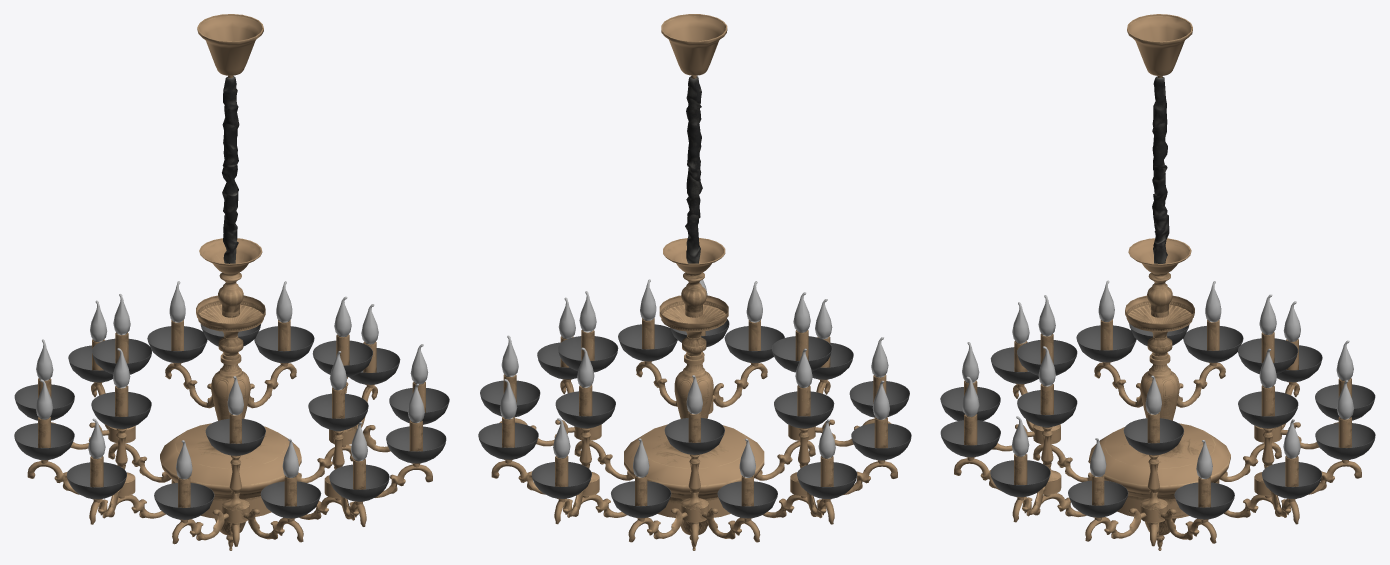
File: chandlier.glb
3 renders of one model, left to right at view 1: azimuth 30°, elevation 25°; view 2: azimuth 150°, elevation 25°; view 3: azimuth 270°, elevation 25°, orthographic.
Parts seen in each view (by area): view 1: lamp_20; view 2: lamp_20; view 3: lamp_20.
Boxes of the visible parts, <box> form: lamp_20: <box>14,14,449,550</box>; lamp_20: <box>478,14,911,550</box>; lamp_20: <box>940,14,1375,550</box>.
Bounding box in the file's own units: 0.7804 × 1.04 × 0.7855.
Materials: 2 (1 with a texture image).
